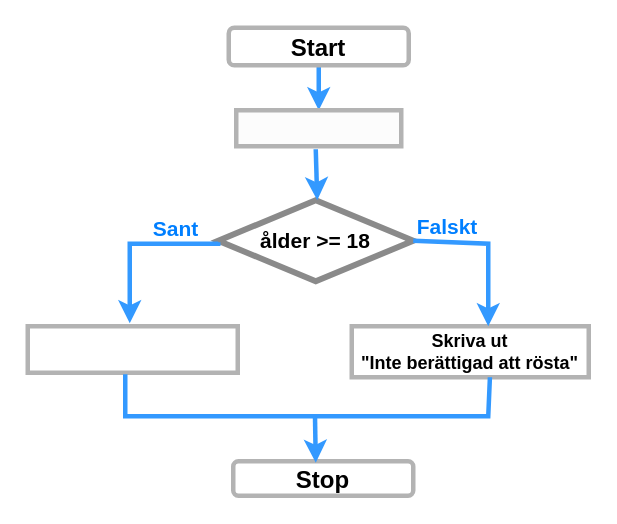
Image size: 617x524. Some labels were removed from this diagram. Each missing label, with the centre of its shape:
Läs in ålder: the point at 318,127
Skriva ut "Berättigad att rösta": the point at 132,348
